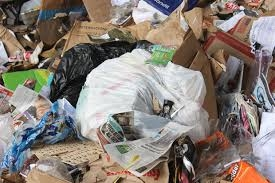paper: (2, 94, 78, 175), (102, 121, 197, 179), (58, 15, 222, 44), (1, 66, 61, 107), (180, 4, 212, 41)
plastic: (71, 44, 214, 150)
